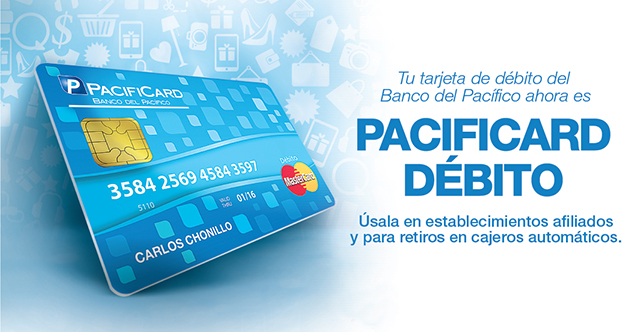tarjeta: (35, 62, 335, 298)
